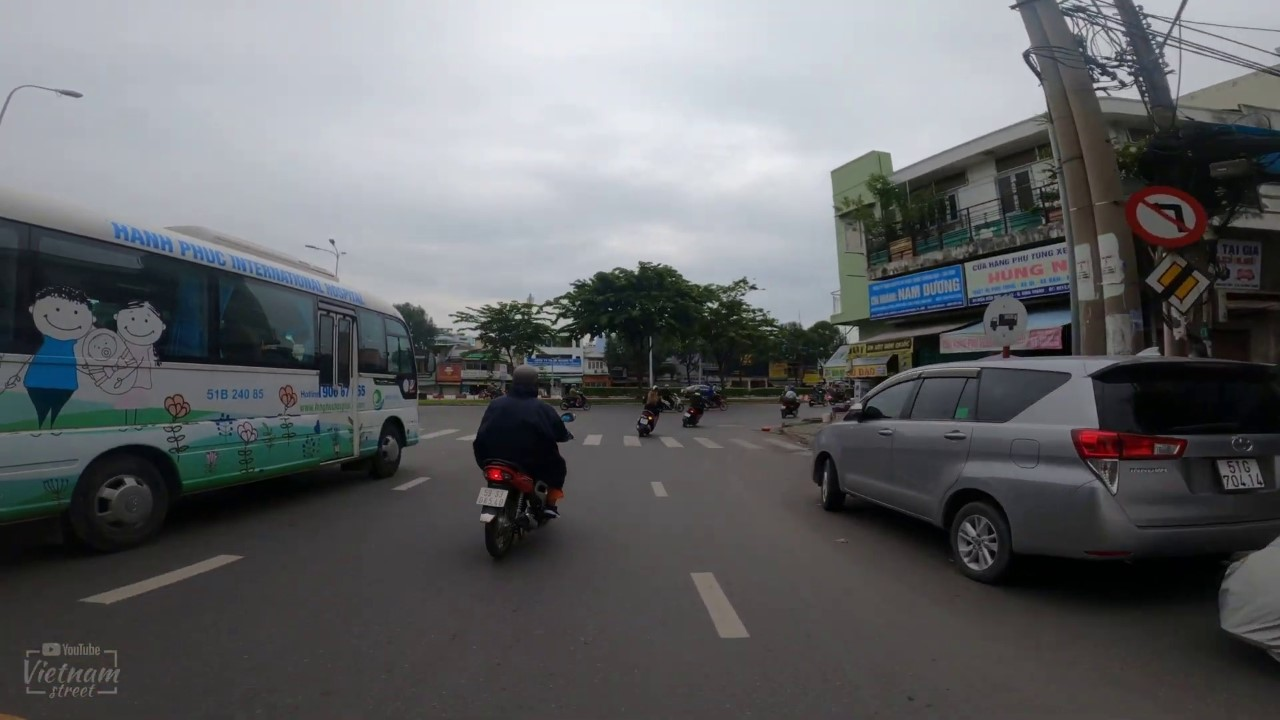cam_re_trai: (1124, 185, 1207, 248)
